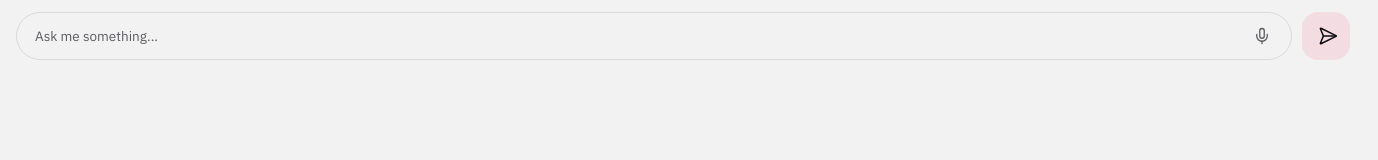
Test: Fluxa Copilot UI Components › renders ChatInput with mic and lime send button
Later steps or results of the test are not shown.
Check: the button named "Voice input" is shown, box [1247,21,1277,51]
Check: the button named "Send message" is disabled, box [1302,12,1350,60]
Type "Make slide 2 more visual" into the field with placeholder "Ask me something..." at (641, 36), box [35,27,1247,45]
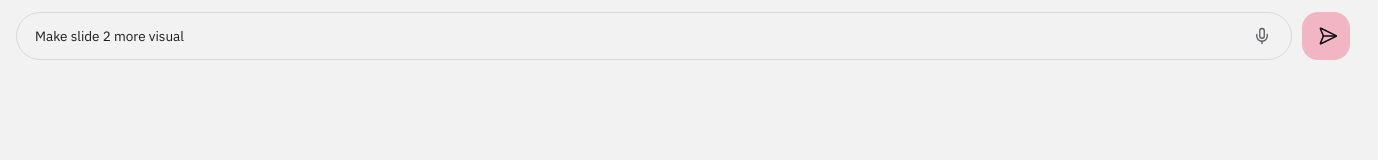
Check: the button named "Send message" is enabled, box [1302,12,1350,60]
